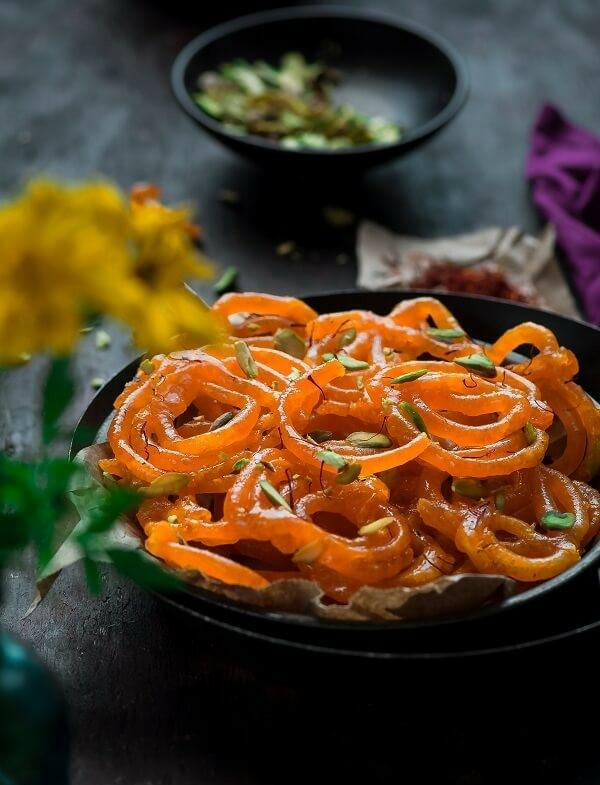Jalebi: (96, 284, 600, 605)
